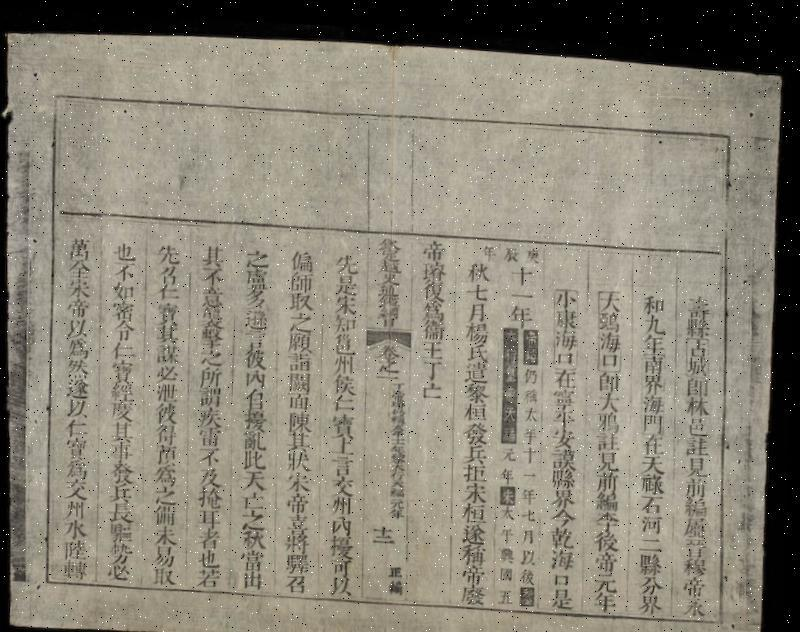c: (154, 262, 184, 298), (638, 538, 668, 566), (109, 457, 139, 483), (594, 516, 624, 542), (198, 320, 228, 346), (685, 340, 714, 366), (155, 238, 184, 264), (597, 277, 626, 303), (684, 362, 714, 387), (286, 443, 316, 468), (552, 275, 582, 300), (461, 574, 492, 598), (462, 472, 493, 496), (200, 238, 228, 264), (66, 372, 94, 398), (686, 282, 714, 308), (330, 528, 358, 554), (551, 437, 581, 461), (684, 422, 714, 446), (109, 497, 139, 521), (640, 460, 670, 484), (684, 304, 714, 328), (289, 242, 316, 268), (111, 356, 138, 382), (641, 420, 669, 445), (464, 413, 492, 438), (420, 252, 449, 276), (109, 540, 138, 564), (685, 444, 714, 468), (509, 294, 538, 318), (684, 383, 714, 406), (68, 234, 94, 260), (332, 406, 358, 432), (242, 504, 270, 528), (551, 516, 579, 540), (286, 546, 314, 570), (334, 268, 362, 292), (154, 500, 182, 524), (334, 246, 362, 270), (376, 298, 404, 322), (376, 277, 404, 301), (464, 312, 492, 336), (287, 464, 315, 488), (198, 361, 226, 385), (550, 576, 578, 600), (110, 436, 138, 460), (65, 434, 93, 458), (595, 539, 623, 563), (242, 544, 270, 568), (200, 281, 228, 305), (198, 561, 226, 585), (551, 538, 579, 562), (553, 356, 581, 380), (198, 481, 226, 505), (639, 563, 668, 586), (593, 580, 623, 602), (466, 252, 493, 276), (199, 522, 226, 546), (155, 298, 182, 322), (422, 231, 449, 255), (684, 503, 711, 527), (597, 439, 624, 463), (510, 256, 537, 280), (641, 341, 668, 365), (462, 534, 490, 557), (462, 514, 490, 537), (286, 507, 314, 530), (596, 400, 624, 423), (682, 563, 710, 586), (110, 518, 138, 541), (64, 536, 92, 559), (109, 396, 137, 419), (243, 464, 271, 487), (199, 302, 228, 324), (462, 494, 491, 516), (639, 583, 668, 605), (640, 442, 669, 464), (155, 460, 181, 484), (243, 303, 270, 326), (596, 460, 623, 483), (66, 476, 93, 499), (288, 404, 315, 427), (465, 354, 492, 377), (198, 502, 226, 524), (464, 374, 492, 396), (154, 522, 182, 544), (288, 286, 316, 308), (288, 306, 316, 328), (683, 584, 711, 606), (594, 561, 622, 583), (640, 502, 668, 524), (686, 404, 714, 426), (64, 557, 92, 579), (596, 420, 624, 442), (154, 562, 182, 584), (288, 346, 316, 368), (463, 455, 492, 476), (111, 337, 140, 358), (245, 280, 270, 304), (245, 262, 271, 285), (199, 402, 225, 425), (67, 455, 93, 478), (244, 405, 270, 428), (642, 322, 668, 345), (112, 316, 138, 339), (199, 422, 225, 445), (597, 499, 624, 521), (109, 556, 136, 578), (465, 435, 492, 457), (552, 478, 579, 500), (243, 444, 270, 466), (332, 448, 359, 470), (330, 569, 357, 591), (684, 464, 711, 486), (243, 486, 270, 508), (641, 482, 668, 504), (596, 480, 623, 502), (67, 274, 94, 296), (289, 266, 316, 288), (245, 243, 272, 265), (154, 542, 181, 564), (112, 277, 139, 299), (552, 458, 580, 479), (154, 441, 182, 462), (288, 326, 316, 347), (65, 415, 93, 436), (682, 546, 711, 566), (288, 424, 314, 446), (423, 312, 449, 334), (464, 555, 490, 577), (598, 360, 624, 382), (642, 282, 668, 304), (155, 360, 181, 382), (288, 366, 314, 388), (554, 396, 580, 418), (244, 342, 270, 364), (598, 320, 624, 342), (422, 292, 448, 314), (66, 516, 92, 538), (201, 261, 227, 283), (598, 300, 624, 322), (422, 273, 448, 295), (112, 297, 138, 319), (156, 320, 182, 342), (199, 382, 225, 404), (156, 340, 182, 362), (333, 368, 359, 390), (684, 484, 711, 505), (243, 425, 270, 446), (110, 418, 137, 439), (334, 289, 361, 310), (286, 528, 314, 548), (242, 525, 270, 545), (110, 480, 138, 500), (334, 327, 358, 350), (200, 462, 225, 484), (156, 420, 181, 442), (422, 352, 447, 374), (113, 238, 138, 260), (555, 299, 580, 321), (156, 399, 181, 421), (332, 469, 358, 490), (332, 429, 358, 450), (554, 418, 580, 439), (553, 378, 579, 399), (66, 315, 92, 336), (598, 381, 624, 402), (554, 319, 580, 340), (465, 394, 492, 414), (332, 388, 359, 408), (684, 527, 711, 547), (553, 498, 580, 518), (286, 568, 313, 588), (244, 384, 268, 406), (332, 489, 357, 510), (156, 379, 181, 400), (422, 332, 447, 353), (288, 487, 313, 508), (686, 324, 712, 344), (466, 274, 492, 294), (200, 343, 226, 363), (334, 308, 360, 328), (66, 296, 92, 316), (66, 396, 92, 416), (155, 482, 181, 502), (642, 363, 666, 384), (334, 348, 358, 369), (422, 374, 446, 395), (332, 509, 356, 530), (68, 335, 92, 356), (642, 384, 667, 404), (243, 564, 268, 584), (643, 304, 668, 324), (113, 258, 138, 278), (640, 523, 666, 542), (111, 380, 137, 399), (68, 257, 94, 276), (67, 356, 93, 375), (66, 497, 90, 517), (200, 544, 224, 564), (467, 294, 491, 314), (377, 337, 405, 354), (377, 228, 405, 245), (200, 443, 225, 462), (466, 336, 492, 354), (500, 476, 521, 498), (245, 365, 269, 384), (246, 325, 270, 344), (642, 403, 666, 422), (288, 387, 313, 405), (521, 576, 541, 598), (332, 552, 356, 570), (598, 342, 622, 360), (509, 280, 537, 294), (374, 515, 400, 530), (552, 563, 576, 579), (389, 572, 409, 591), (379, 252, 406, 266), (378, 353, 403, 368), (481, 236, 500, 255), (504, 238, 524, 256), (523, 436, 541, 456), (523, 476, 541, 496), (556, 341, 578, 357), (378, 266, 403, 280), (500, 518, 518, 537), (500, 537, 518, 556), (524, 237, 542, 256), (524, 417, 542, 436), (500, 458, 519, 476), (390, 556, 408, 574), (522, 558, 540, 576), (499, 579, 517, 597), (522, 538, 540, 556), (380, 242, 404, 255), (374, 528, 400, 540), (500, 557, 518, 574), (503, 438, 520, 455), (524, 379, 541, 396), (504, 417, 520, 435), (524, 518, 540, 536), (501, 497, 519, 513), (526, 396, 542, 414), (504, 339, 520, 356), (523, 498, 540, 514), (524, 358, 540, 375), (523, 459, 540, 474), (505, 357, 519, 375), (504, 319, 520, 334), (390, 382, 410, 394), (392, 444, 409, 458), (390, 479, 408, 492), (390, 501, 408, 514), (391, 418, 407, 432), (504, 378, 518, 394), (506, 398, 520, 414), (388, 491, 408, 502), (526, 320, 540, 335), (393, 468, 408, 482), (392, 458, 408, 471), (528, 340, 540, 356), (377, 366, 403, 373), (390, 374, 408, 384), (392, 430, 407, 441)
